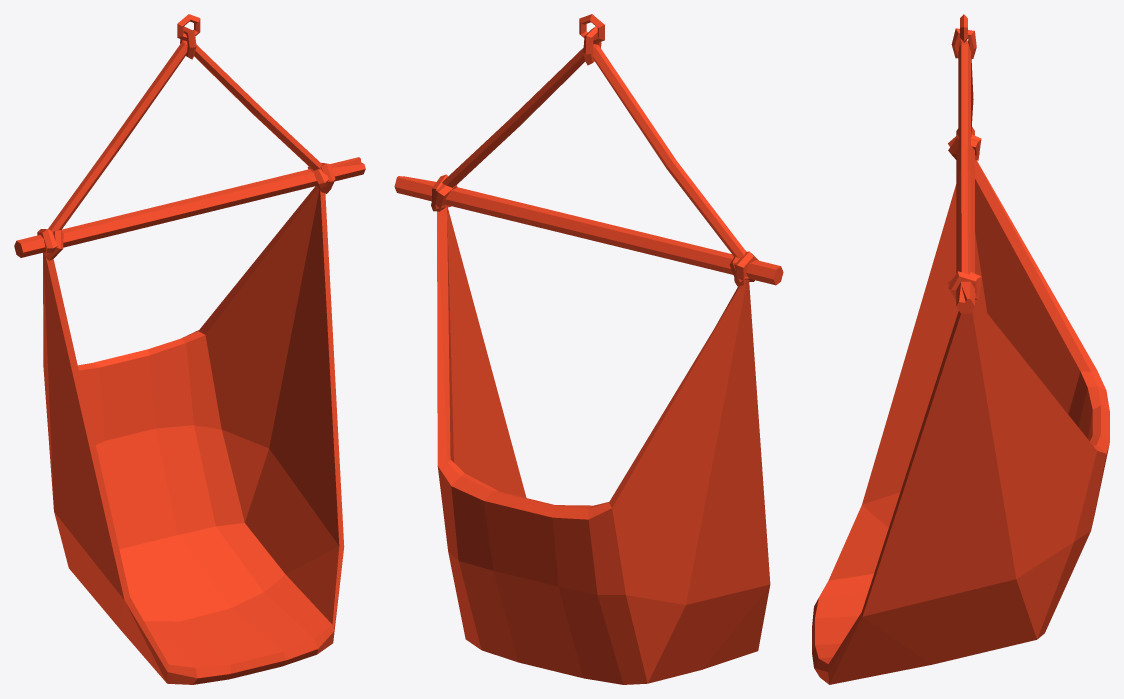
File: SM_Chair_Hanging_City.fbx
3 renders of one model, left to right at view 1: azimuth 30°, elevation 25°; view 2: azimuth 150°, elevation 25°; view 3: azimuth 270°, elevation 25°, orthographic. The views are drawn at different scales.
Parts seen in each view (by area): view 1: SM_Chair_Hanging_City; view 2: SM_Chair_Hanging_City; view 3: SM_Chair_Hanging_City.
Boxes of the visible parts, x1,y1,x2,y2 form: SM_Chair_Hanging_City: [14, 14, 365, 684]; SM_Chair_Hanging_City: [394, 14, 783, 684]; SM_Chair_Hanging_City: [812, 14, 1109, 684].
Bounding box in the file's own units: 0.9952 × 1.69 × 0.7153.
